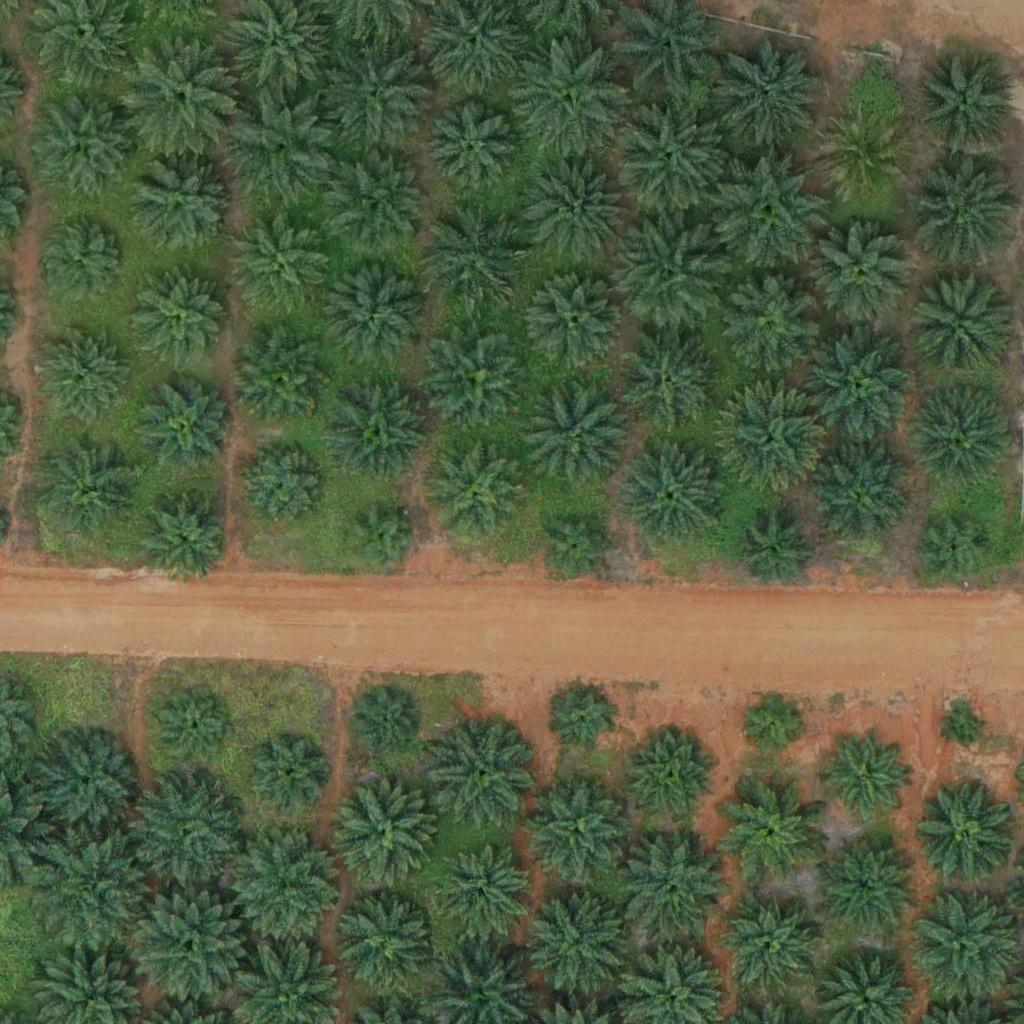Kelapa_Sawit: (31, 830, 156, 956), (716, 38, 829, 152), (714, 154, 827, 268), (803, 327, 916, 440), (318, 33, 431, 146), (229, 830, 342, 943), (614, 95, 726, 209), (132, 886, 244, 1000), (716, 388, 828, 501), (911, 153, 1023, 266), (611, 220, 723, 333), (514, 42, 626, 155), (227, 89, 339, 202), (125, 38, 237, 151), (127, 771, 239, 884), (909, 884, 1021, 997), (913, 53, 1013, 154), (810, 445, 910, 546), (619, 336, 719, 437), (623, 443, 723, 544), (525, 159, 625, 260), (526, 272, 626, 373), (526, 381, 626, 482), (425, 204, 525, 305), (427, 330, 527, 431), (427, 442, 527, 543), (333, 154, 433, 255), (327, 262, 427, 363), (328, 384, 428, 485), (234, 211, 334, 312), (233, 328, 333, 429), (132, 153, 232, 254), (131, 269, 231, 370), (35, 97, 135, 198), (334, 780, 434, 881), (333, 895, 433, 996), (436, 721, 536, 822), (430, 842, 530, 943), (527, 778, 627, 879), (527, 890, 627, 991), (622, 835, 722, 936), (724, 782, 824, 883), (719, 897, 819, 998), (816, 834, 916, 935), (908, 273, 1008, 373), (913, 387, 1013, 487), (814, 226, 914, 326), (720, 276, 820, 376), (134, 486, 234, 586), (40, 436, 140, 536), (35, 734, 135, 834), (916, 779, 1016, 879), (819, 116, 907, 204), (239, 442, 327, 530), (821, 734, 909, 822), (427, 106, 514, 194), (144, 382, 231, 470), (38, 213, 125, 301), (40, 325, 127, 413), (633, 731, 720, 819), (156, 692, 231, 768), (919, 509, 994, 585), (345, 501, 420, 577), (253, 736, 328, 811), (737, 515, 812, 590), (541, 509, 616, 584), (354, 690, 417, 753), (554, 688, 616, 751), (740, 689, 802, 752), (947, 709, 984, 747)
